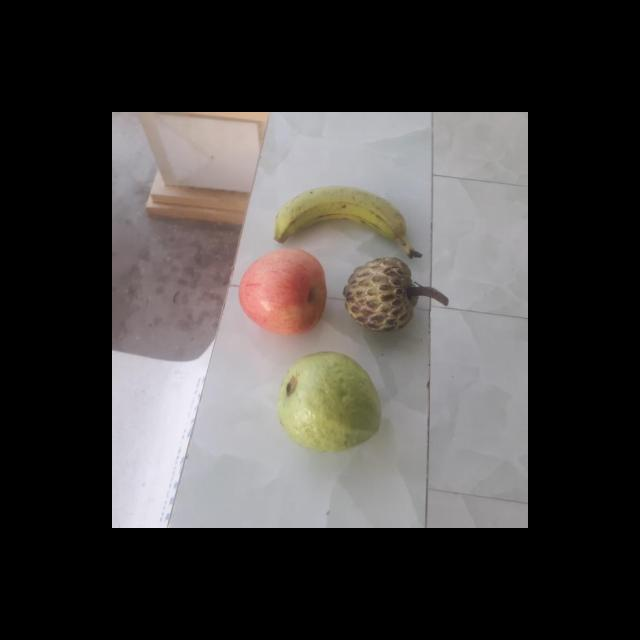Sakya fruit: (338, 259, 422, 332)
apple: (236, 248, 330, 334)
guava: (271, 352, 377, 452)
